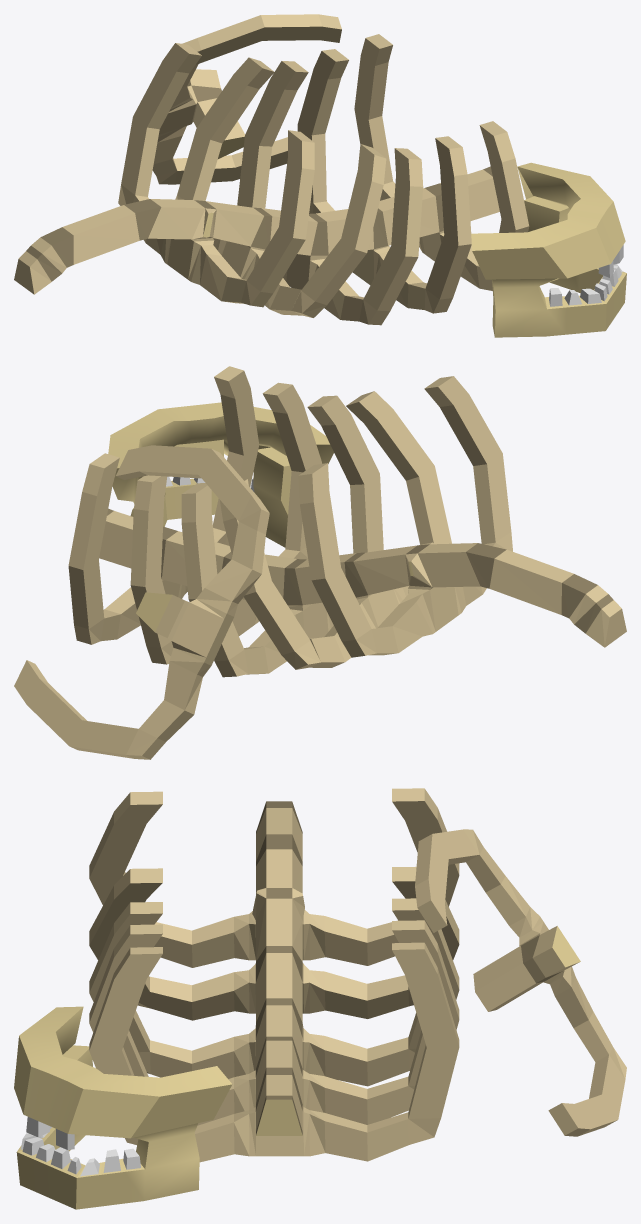
File: esqu3.fbx
3 renders of one model, top to bottom at view 1: azimuth 30°, elevation 25°; view 2: azimuth 150°, elevation 25°; view 3: azimuth 270°, elevation 25°, orthographic. The views are drawn at different scales.
Visible parts, largest first — view 1: Columna2, Cabeza_Parte_Abajo3, Costilla_6; view 2: Columna2, Costilla_6, Cabeza_Parte_Abajo3; view 3: Columna2, Cabeza_Parte_Abajo3, Costilla_6.
Boxes of the visible parts, x1,y1,x2,y2 form: Columna2: (14,34,529,325); Cabeza_Parte_Abajo3: (471,162,626,337); Costilla_6: (152,14,341,184); Columna2: (68,366,626,677); Costilla_6: (14,445,269,759); Cabeza_Parte_Abajo3: (108,402,334,547); Columna2: (89,788,459,1162); Cabeza_Parte_Abajo3: (14,1006,232,1209); Costilla_6: (415,829,626,1136).
Bounding box in the file's own units: 3.87 × 1.66 × 3.45.
